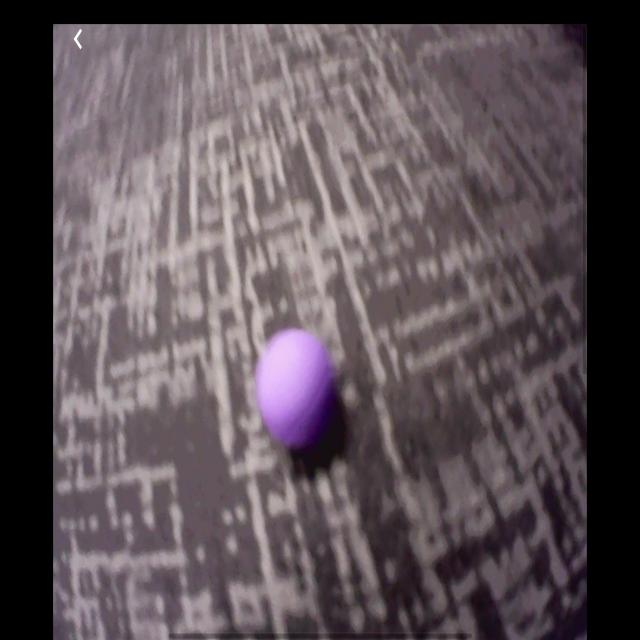ball: (258, 326, 334, 439)
